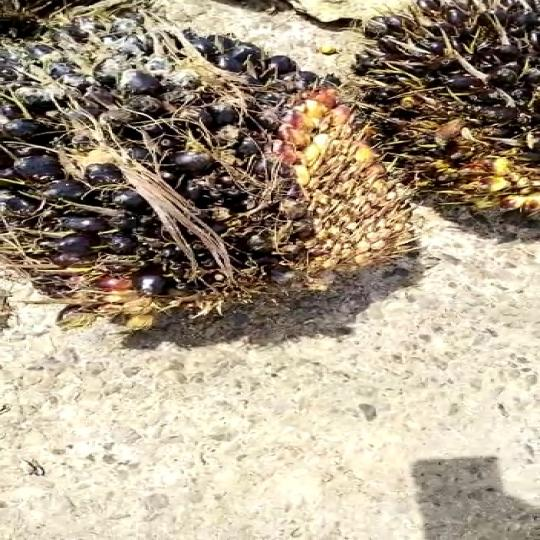mentah: (0, 9, 418, 319)
